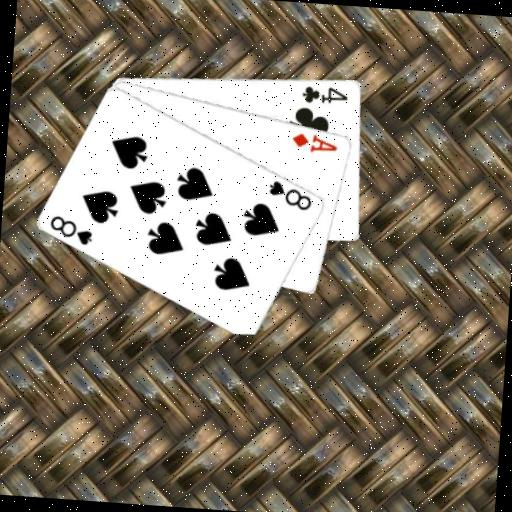4C: (299, 81, 351, 106)
8S: (265, 176, 316, 213), (46, 212, 96, 248)
AD: (289, 130, 340, 156)
